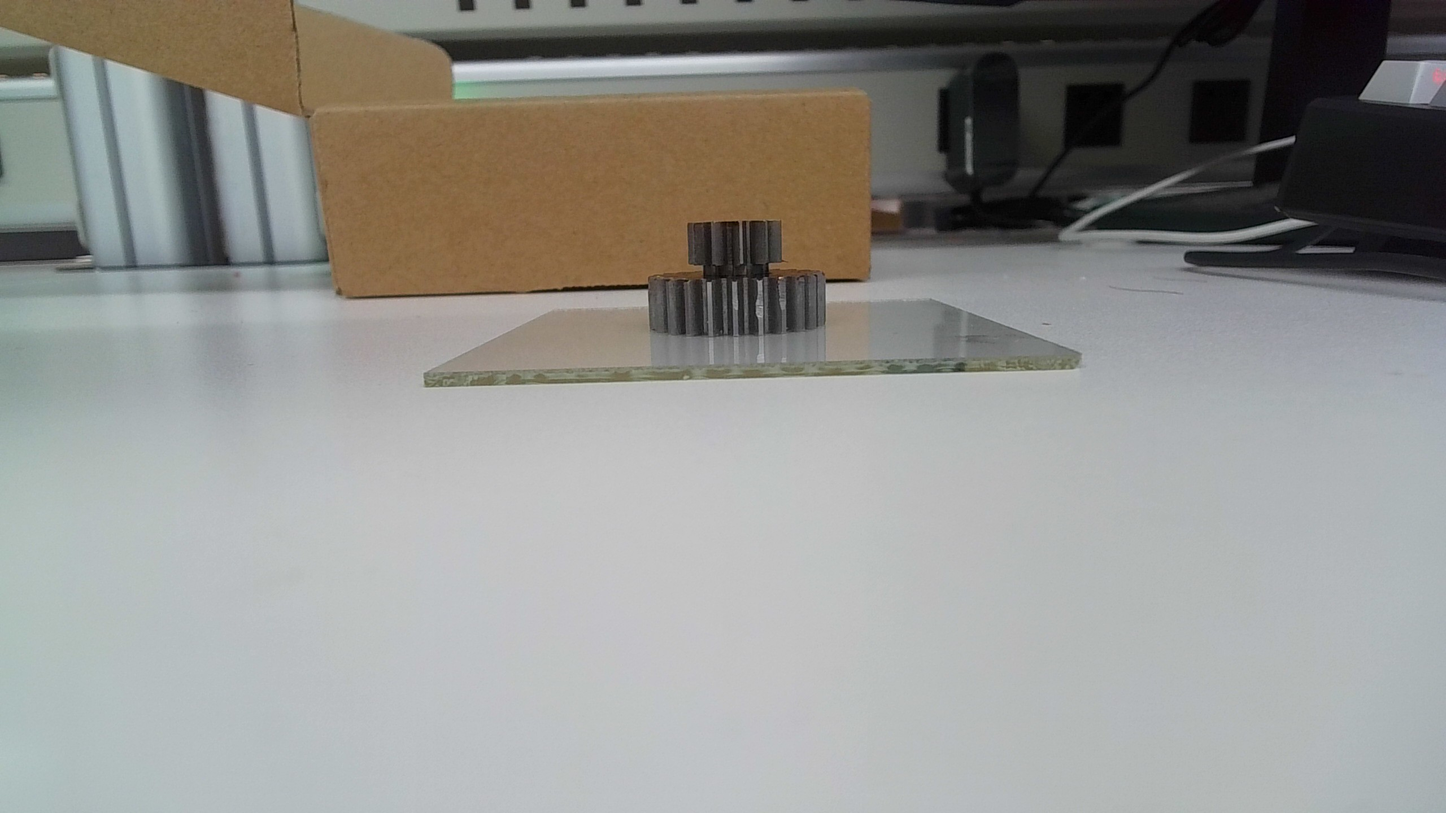gear: (646, 219, 831, 339)
